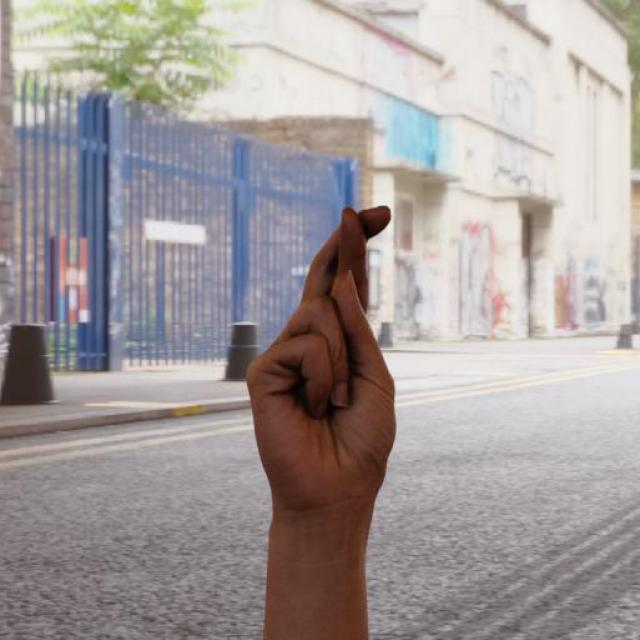R: (237, 202, 402, 516)
